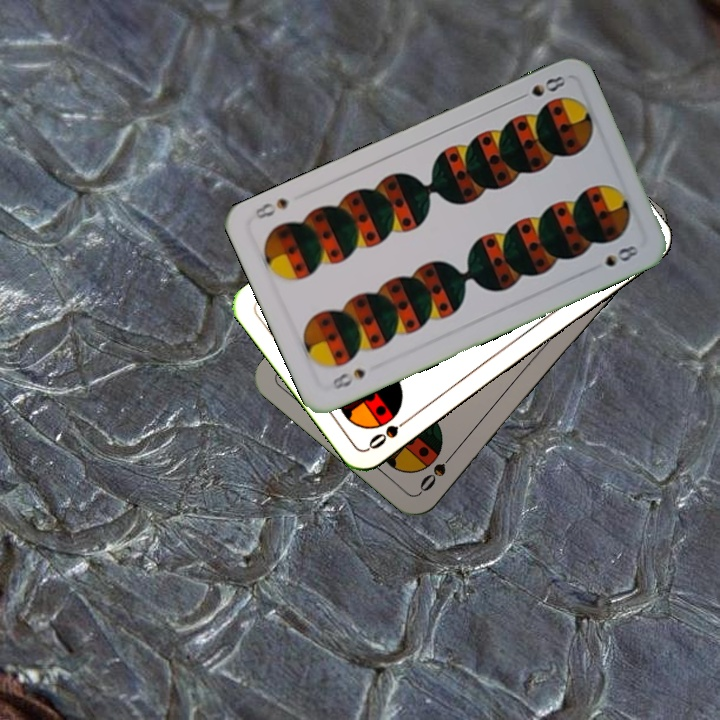S8: (512, 70, 569, 104), (328, 364, 368, 393)
SO: (415, 446, 459, 495), (364, 411, 416, 452)
